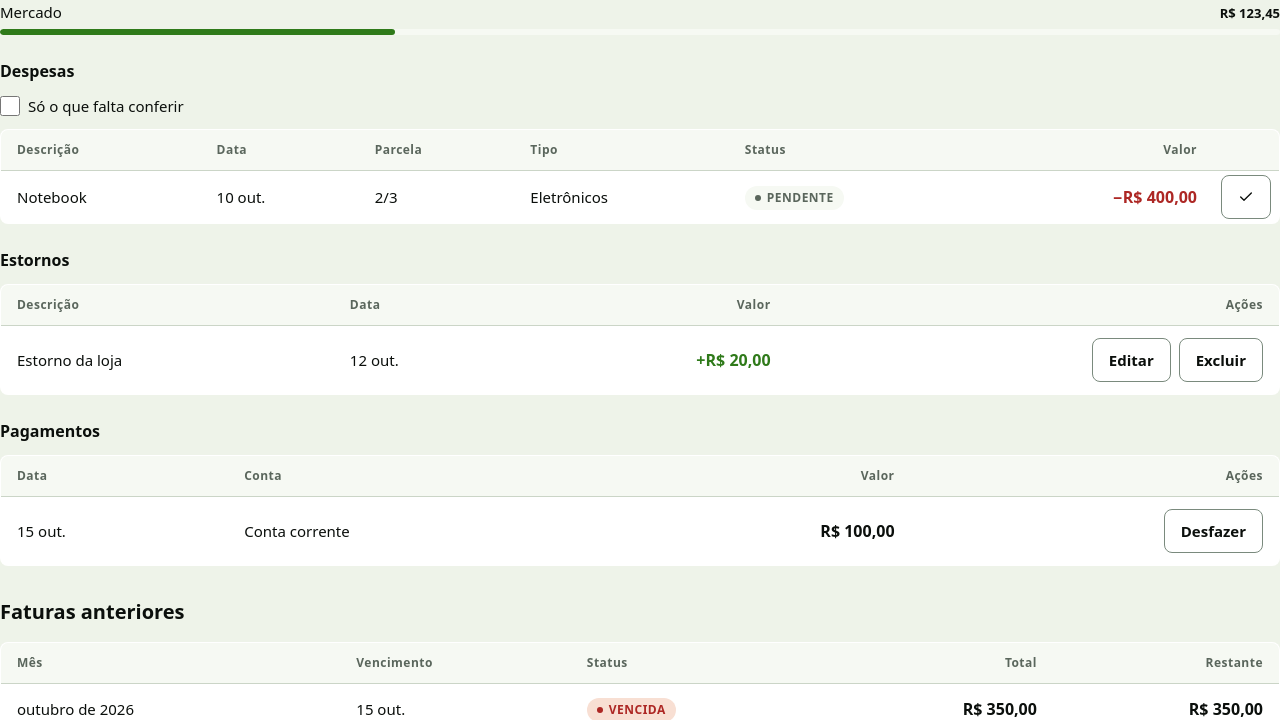
refund actions (spec 0013) › edits only the description and the notes
(page scrolled)
Step 1. Click the button "Editar" → click(1131, 360), box [1092, 338, 1171, 382]
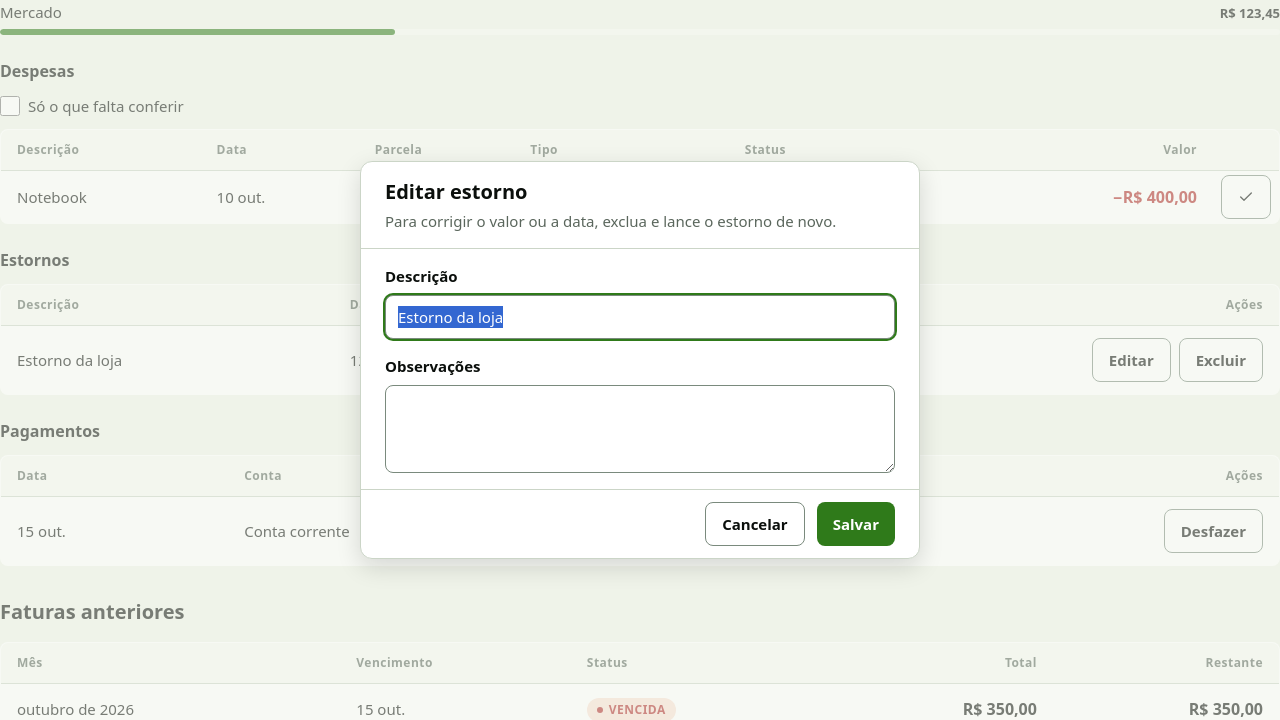
Result: the field labelled "Descrição" holds "Estorno da loja" at [385, 295, 895, 339]
Step 2. Type "Crédito em 2 dias" into the text box labelled "Observações" → (640, 429), box [385, 385, 895, 473]
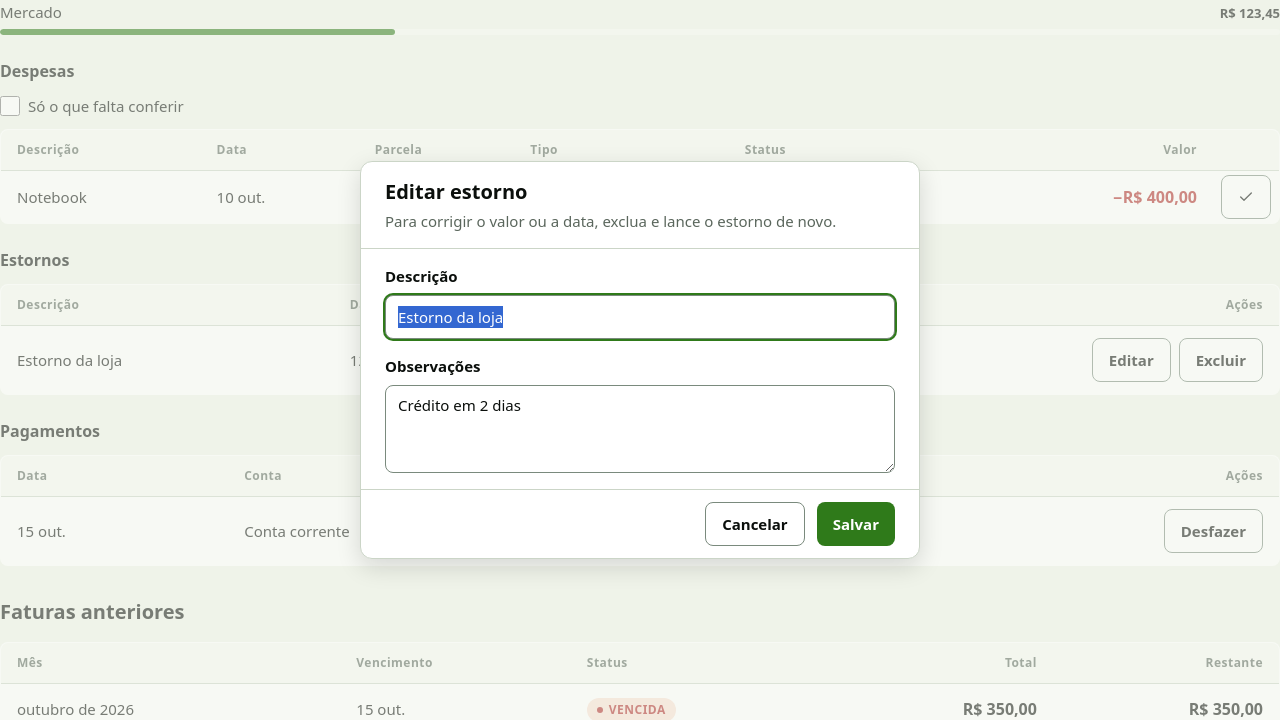
Step 3. Click the button "Salvar" → click(856, 524), box [817, 502, 895, 546]
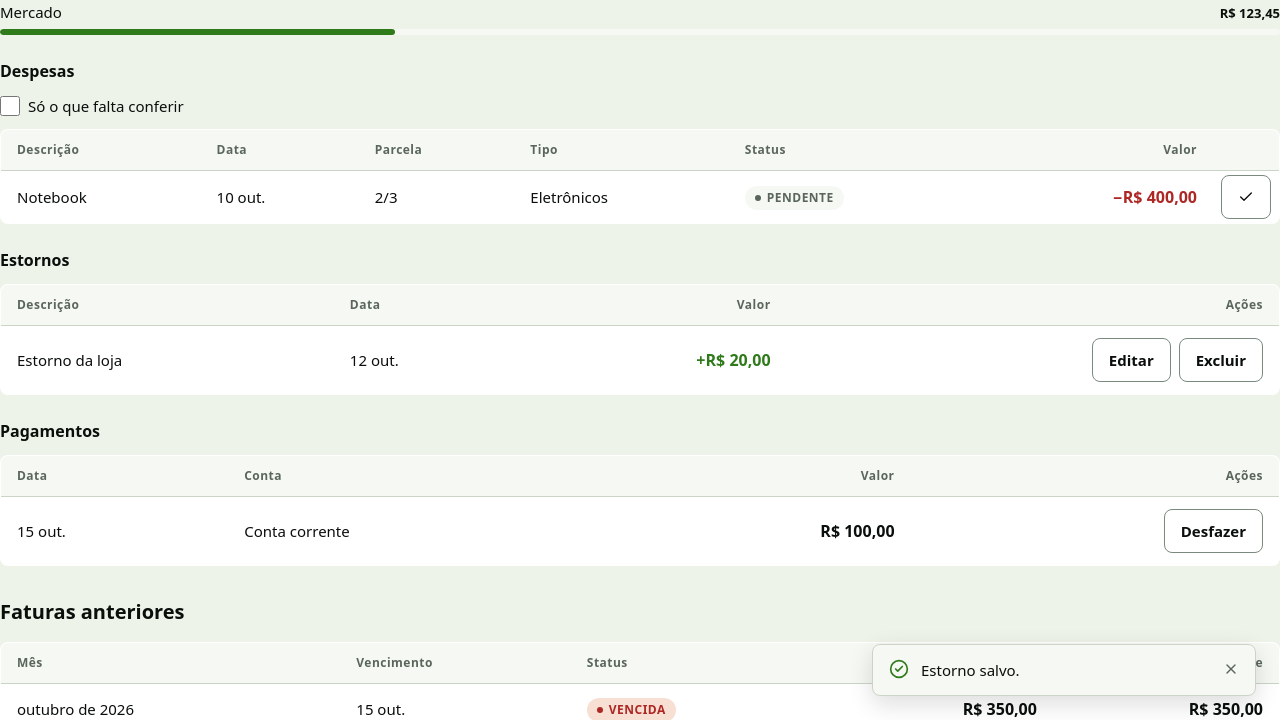
Result: the dialog is gone
Result: the text "Estorno salvo." is shown at [921, 660, 1020, 680]
